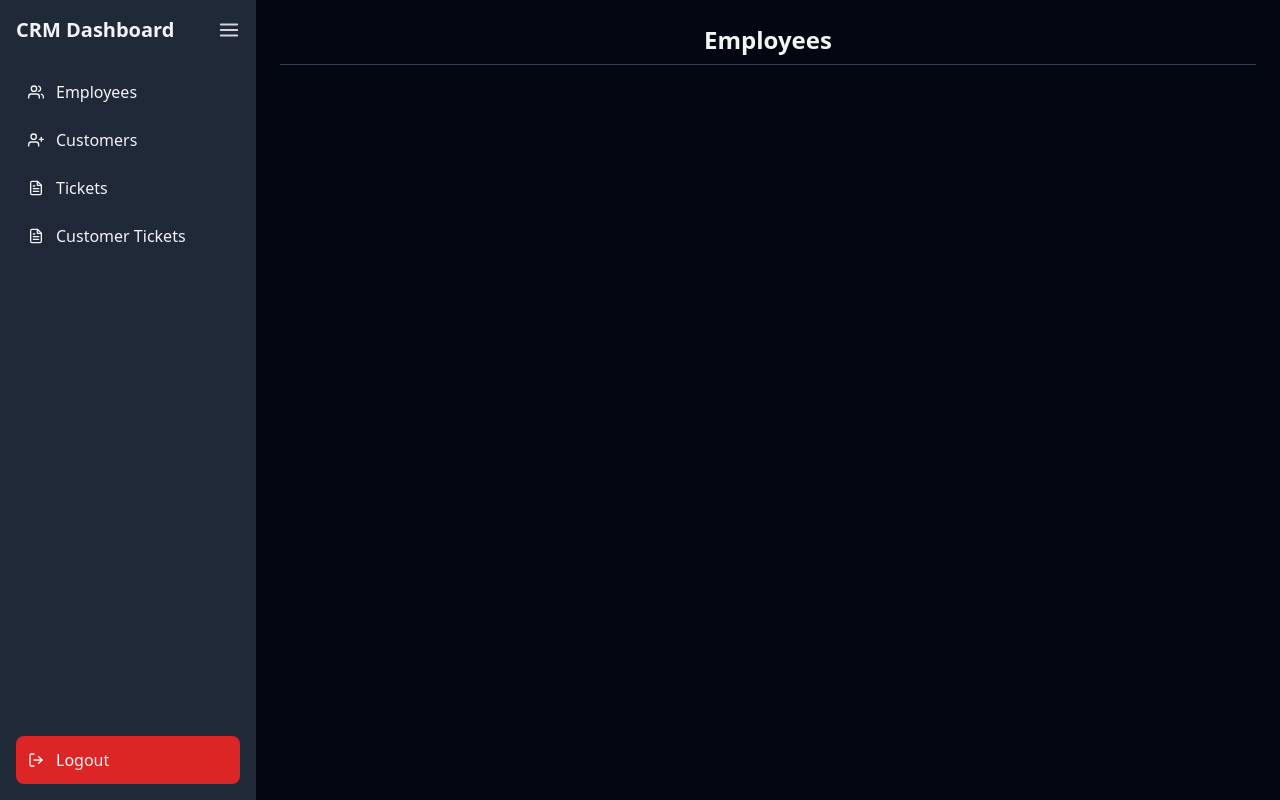
Scenario: DashboardLayout › toggles sidebar visibility
✅ Toggle sidebar twice to cover branch
Click the 1st button.
click(229, 30)  # box [218, 19, 240, 41]
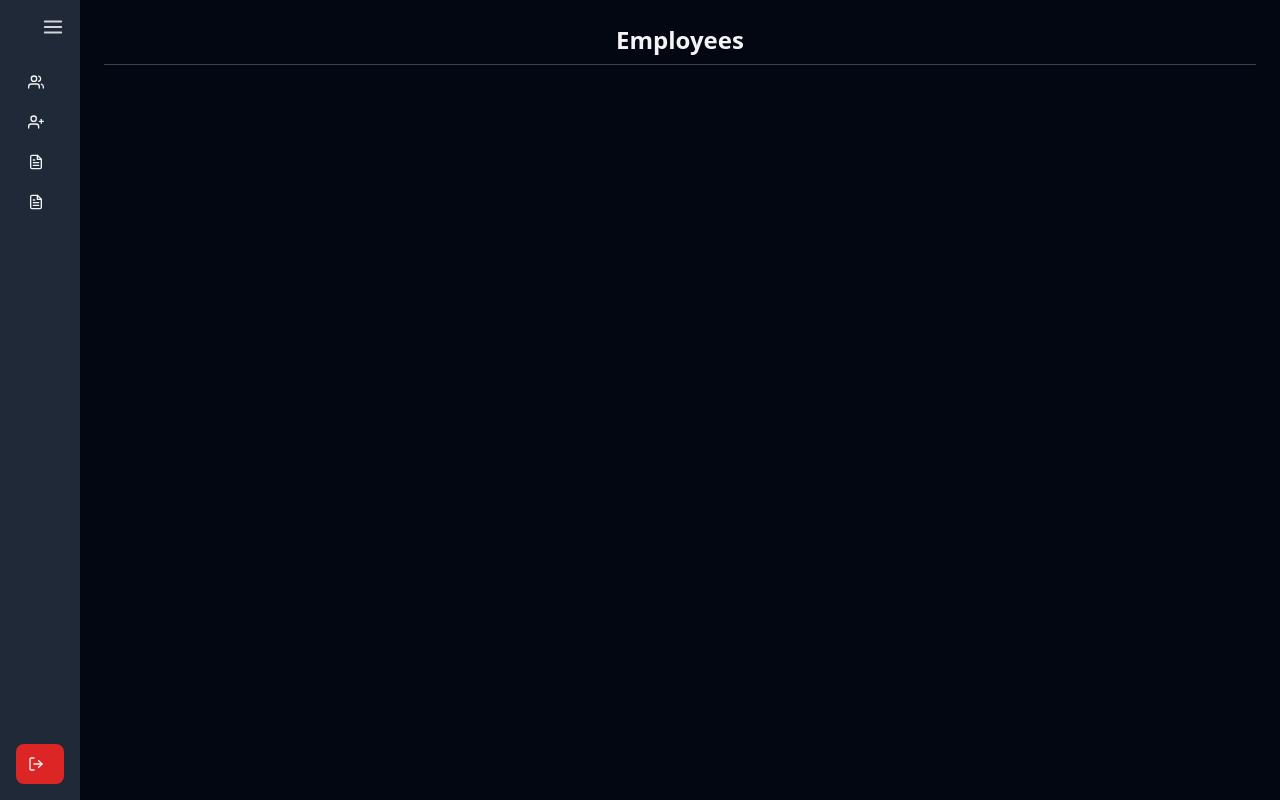
Click the 1st button.
click(53, 27)  # box [42, 16, 64, 38]
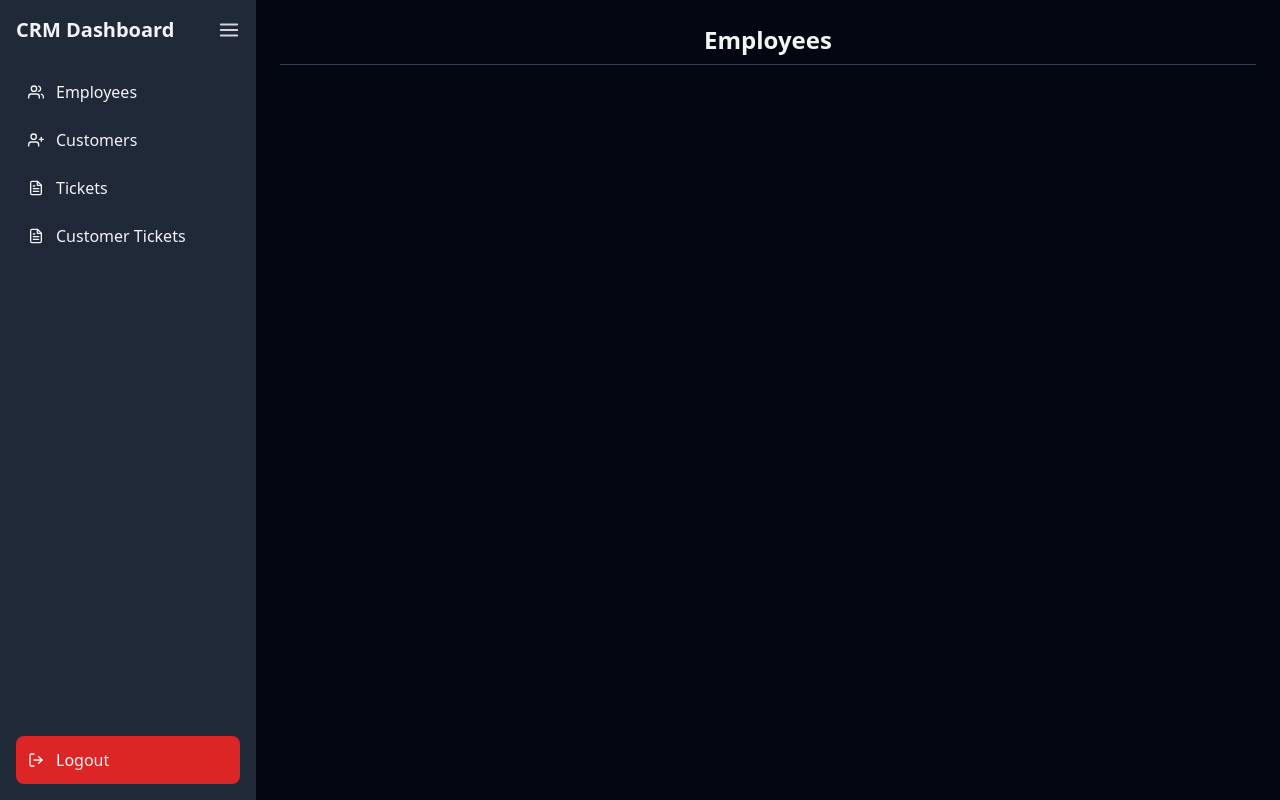
Now the text "Logout" is shown, box [56, 748, 109, 772]
